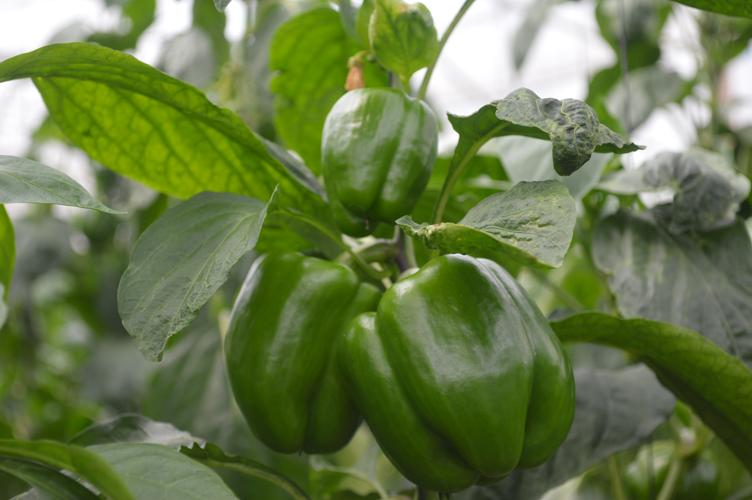BellPepper: (338, 252, 576, 482), (225, 251, 369, 445), (321, 85, 441, 231)
